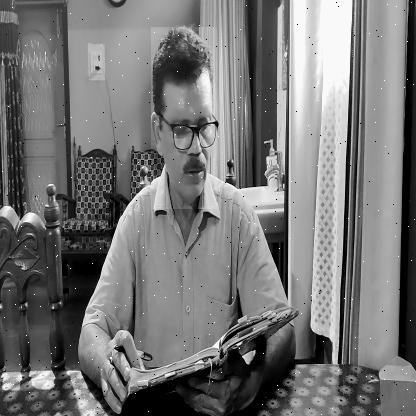Normal: (152, 27, 218, 209)
